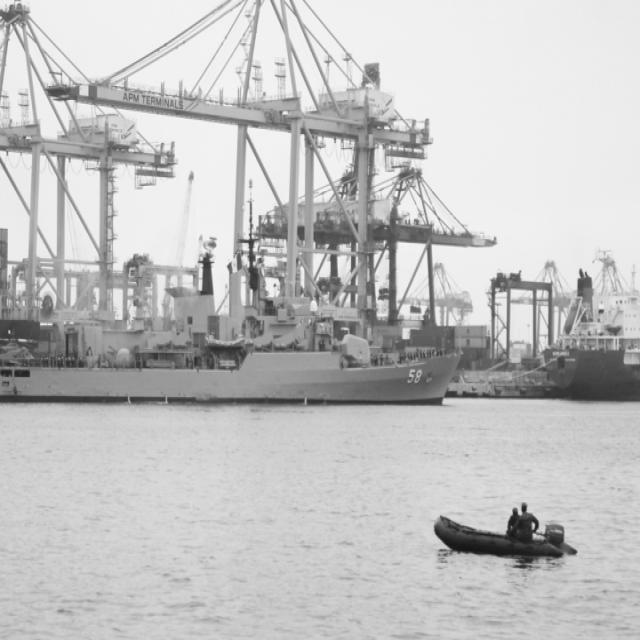Fragata: (1, 167, 467, 408)
